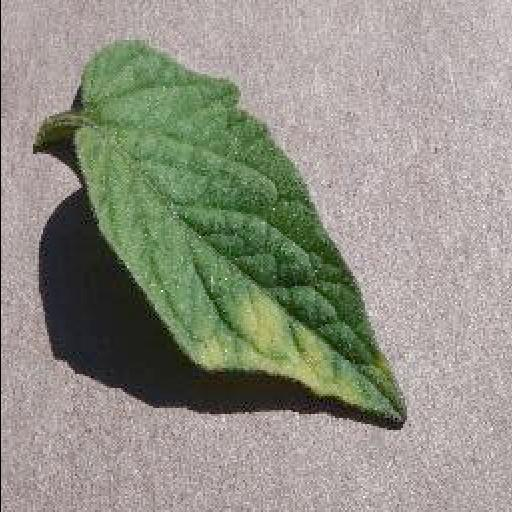disease_tomato: (74, 38, 408, 427)
